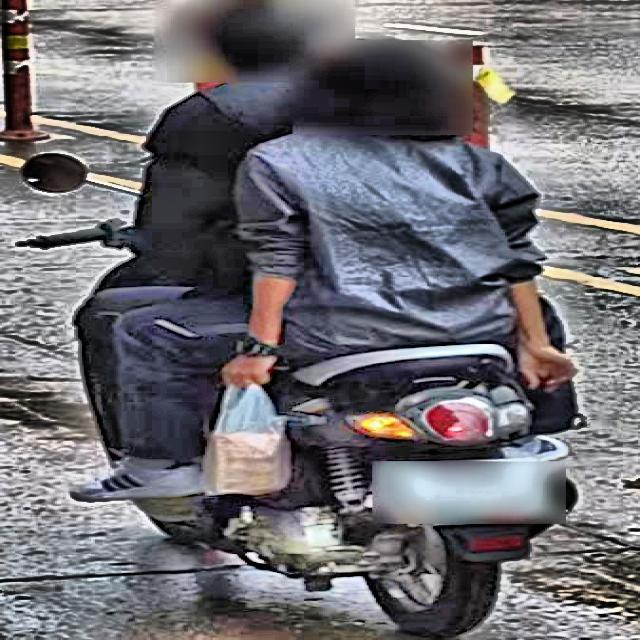motorcycle: (0, 121, 615, 636)
